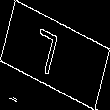L_S: (39, 26, 71, 84)
